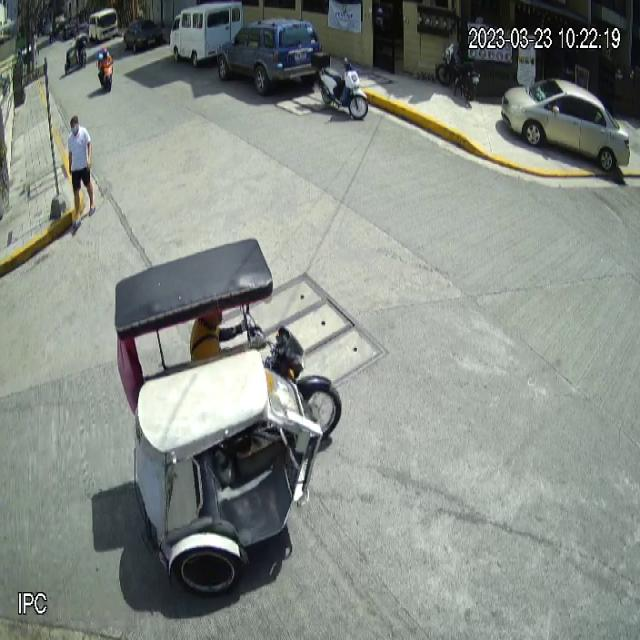Car: (501, 76, 631, 172), (217, 18, 323, 95)
Motorcycle: (311, 50, 368, 120)
Tricycle: (114, 240, 343, 597)
Van: (169, 1, 243, 68)
